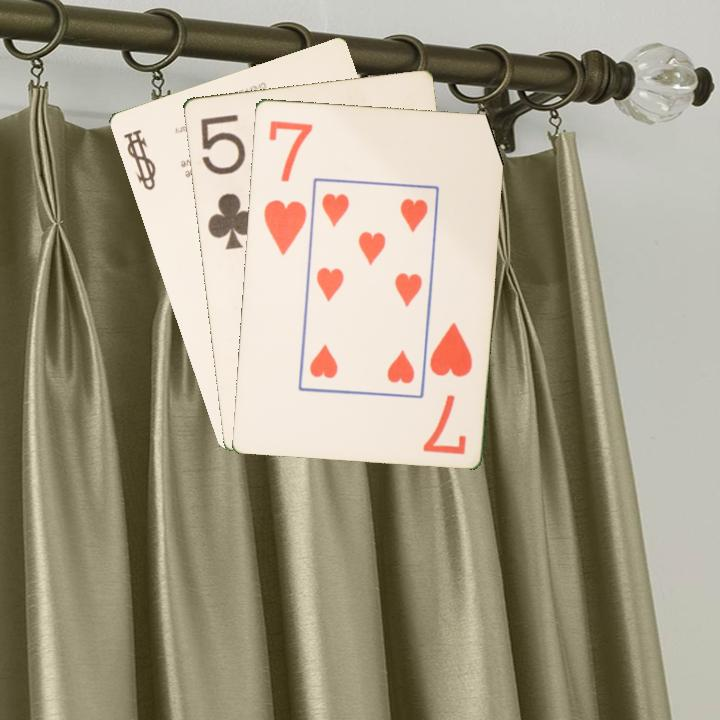5c: (196, 110, 259, 253)
7h: (259, 117, 315, 258), (420, 319, 475, 457)
JK: (119, 125, 159, 193)
